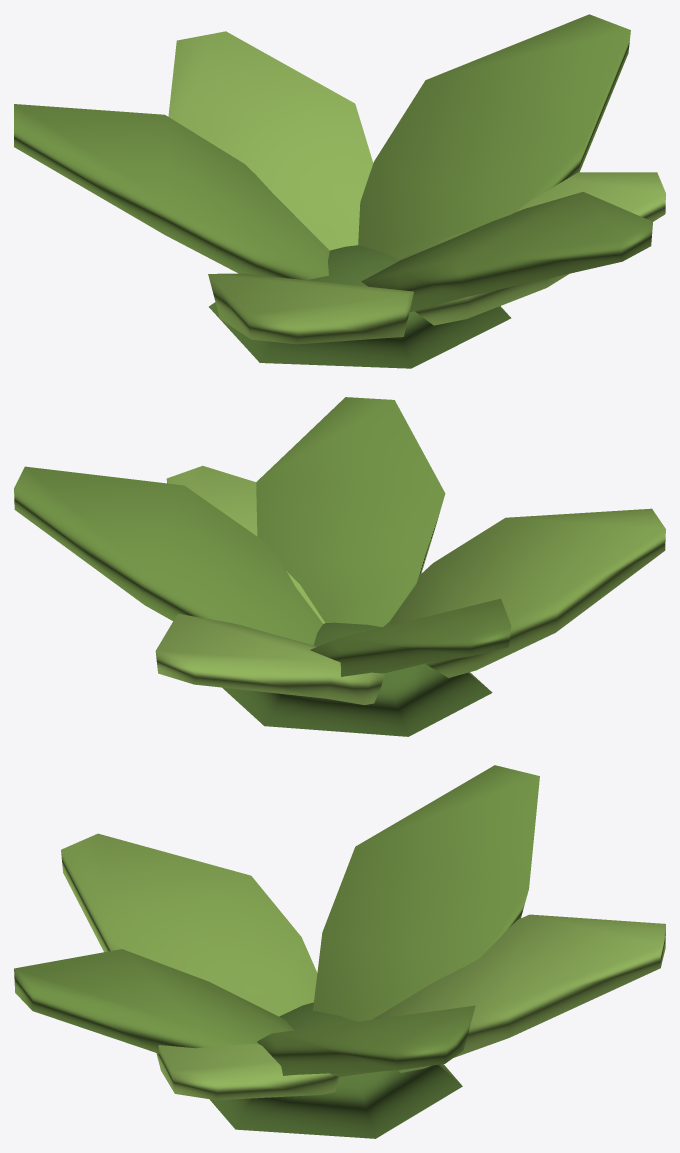
Rendered from accent_leafy.glb.
3 renders of one model, top to bottom at view 1: azimuth 30°, elevation 25°; view 2: azimuth 150°, elevation 25°; view 3: azimuth 270°, elevation 25°, orthographic. The views are drawn at different scales.
Parts seen in each view (by area): view 1: accent_leafy; view 2: accent_leafy; view 3: accent_leafy.
Boxes of the visible parts, box(x1,y1,x2,y2) form: accent_leafy: box(14, 14, 665, 368); accent_leafy: box(14, 397, 665, 736); accent_leafy: box(14, 765, 665, 1138).
Bounding box in the file's own units: 0.3316 × 0.1043 × 0.3315.
